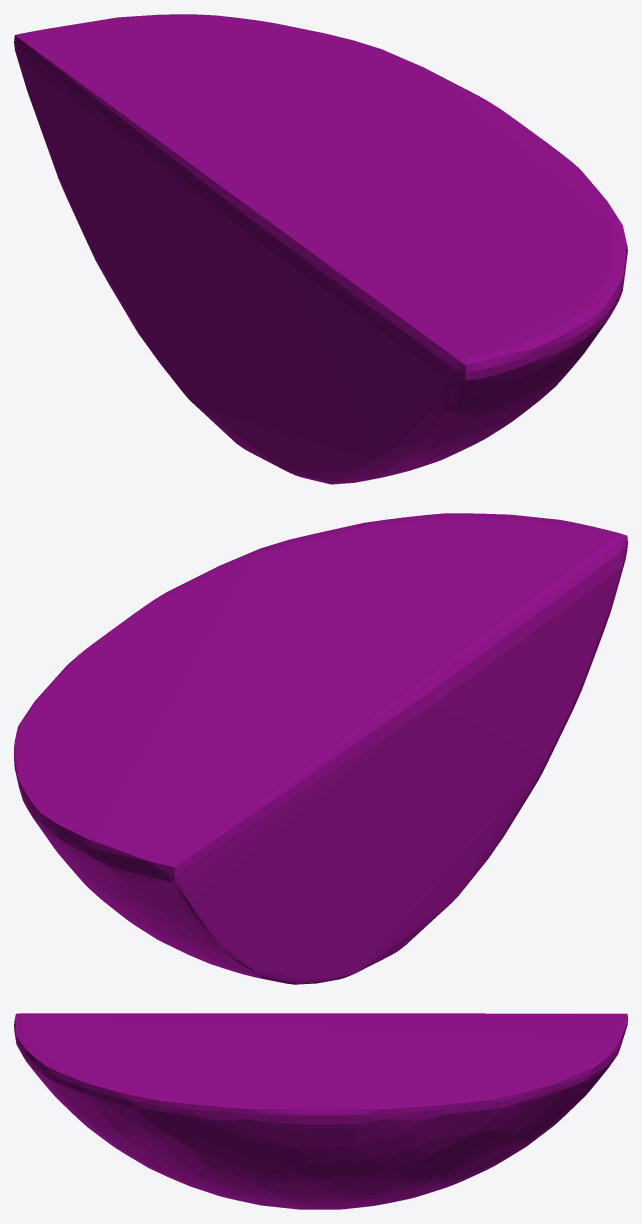
File: right-hip-roll-0_part_14.obj
3 views of the same model, one above another, from view 1: azimuth 30°, elevation 25°; view 2: azimuth 150°, elevation 25°; view 3: azimuth 270°, elevation 25° (orthographic). The views are drawn at different scales.
Size of the model in its own units: 0.0246 by 0.0196 by 0.0648.
